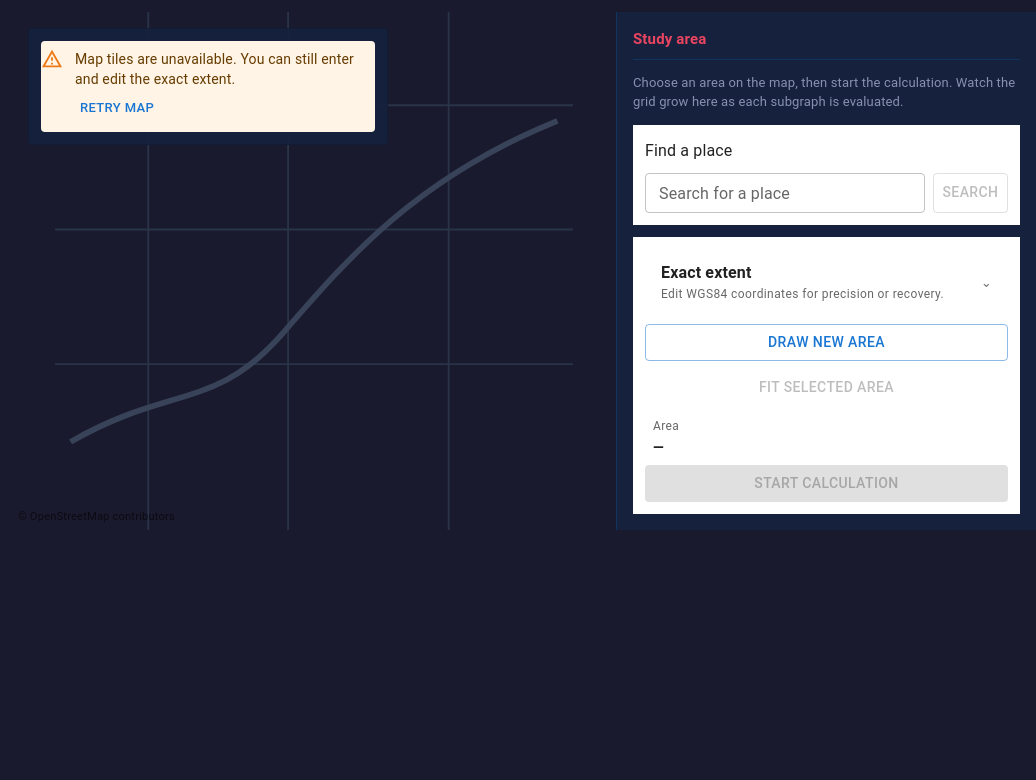
Test: area selection workspace › keeps a search suggestion separate from the active area
Type "Bad Oeynhausen" into the field labelled "Search for a place".
click(785, 192); type("Bad Oeynhausen")  # box [645, 172, 925, 212]
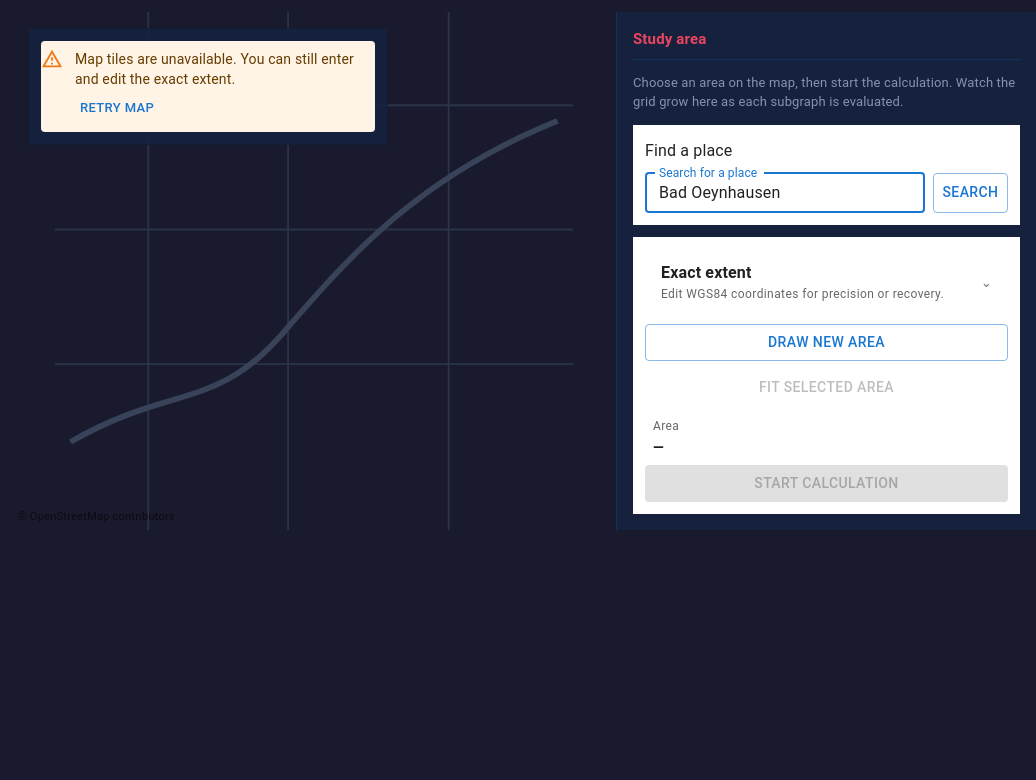
Click the button "Search".
click(970, 192)  # box [933, 172, 1008, 212]
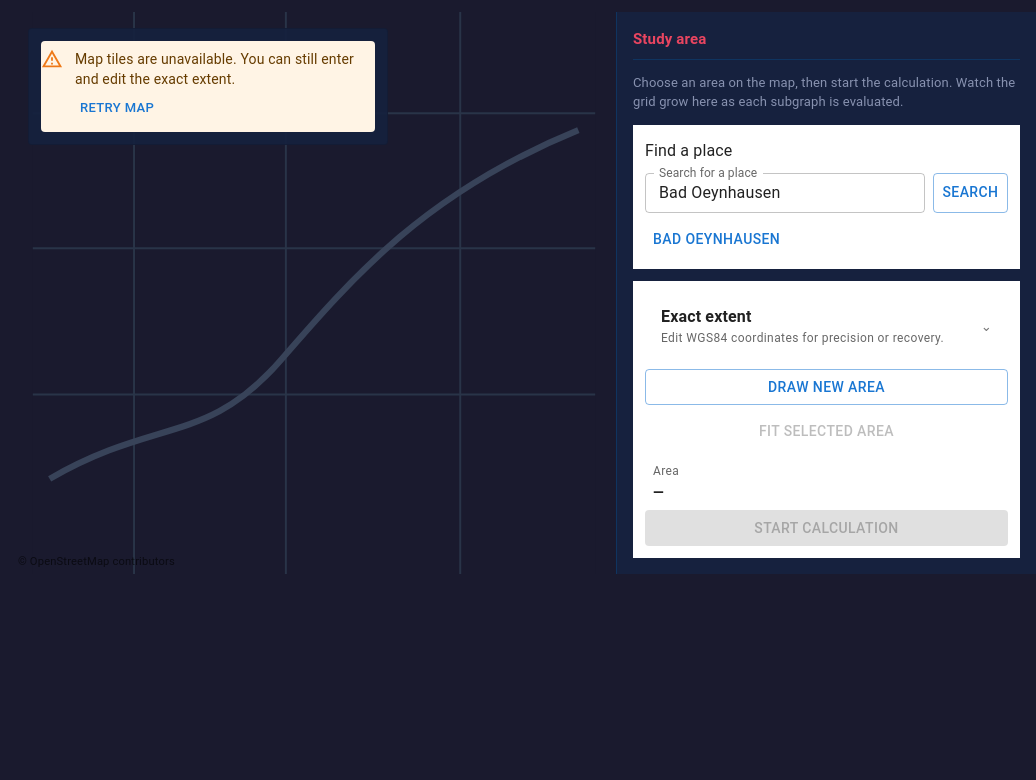
Click the option "Bad Oeynhausen".
click(717, 238)  # box [645, 220, 1008, 257]
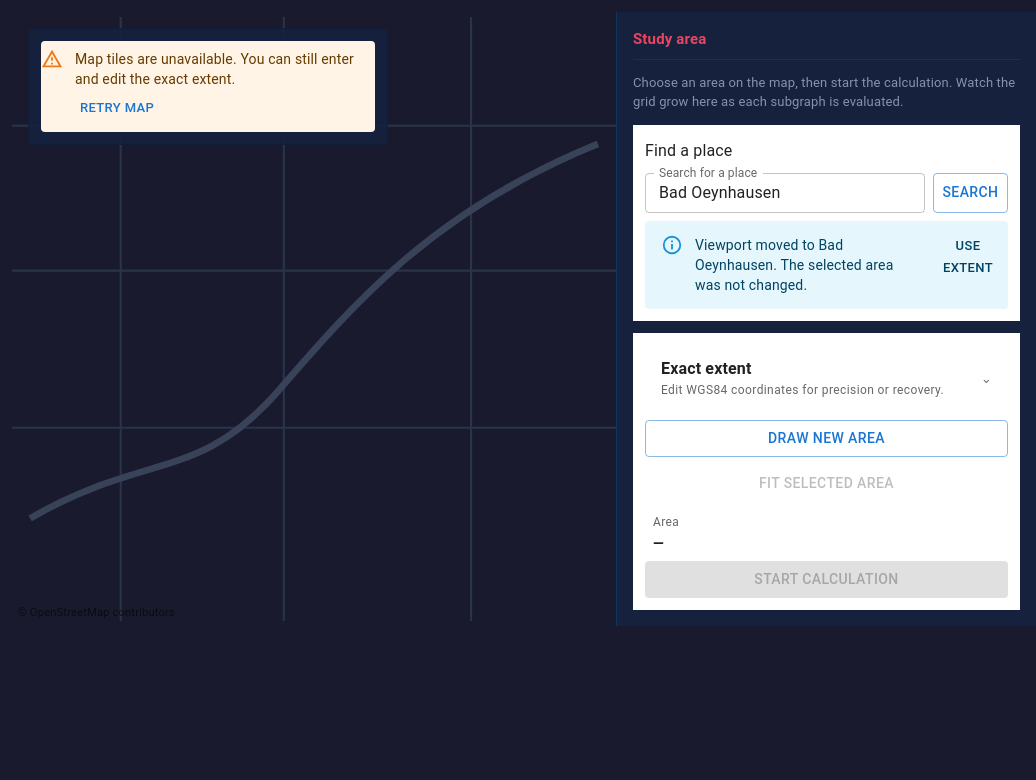
expect the text "selected area was not changed" is shown: met, box [695, 256, 893, 292]
Click the text "Exact extent".
click(706, 368)  # box [661, 358, 752, 378]
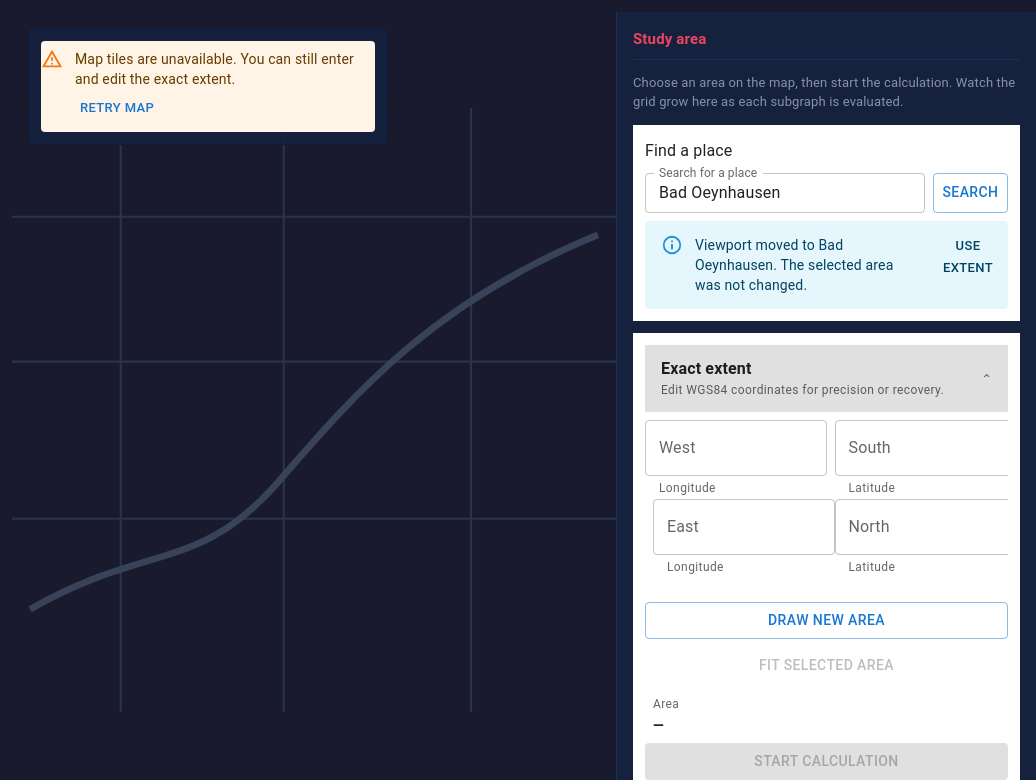
Click the button "Use extent".
click(968, 257)  # box [936, 230, 1000, 284]
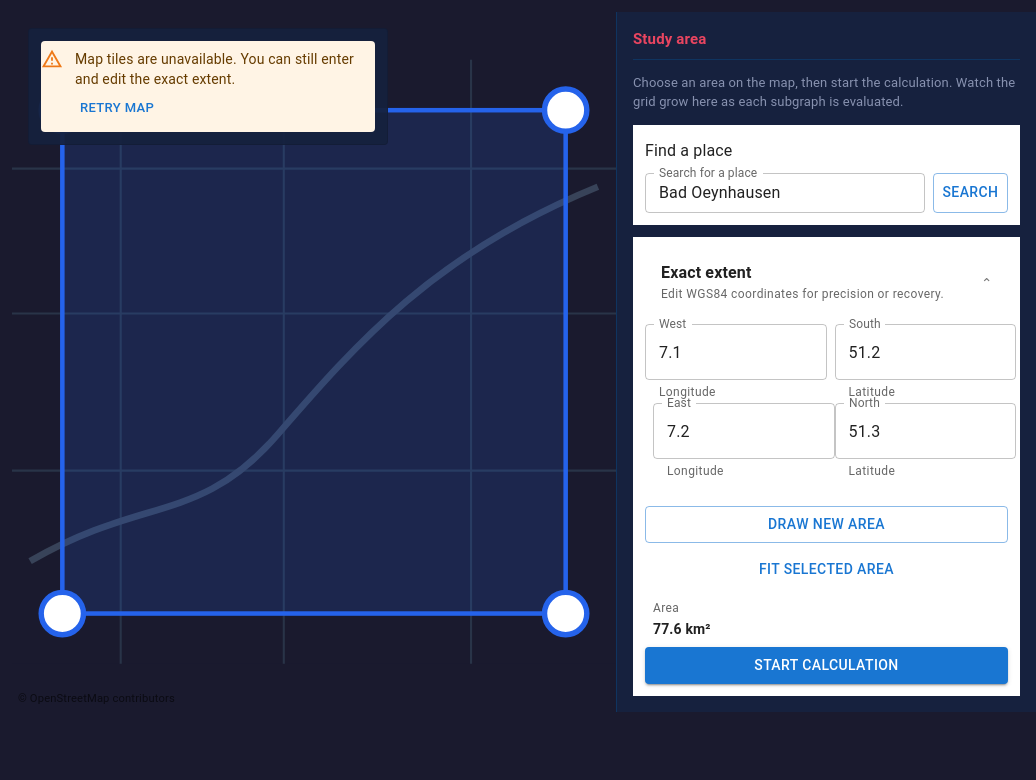
expect the number field labelled "West" holds "7.1": met, box [645, 324, 826, 380]
expect the number field labelled "East" holds "7.2": met, box [653, 403, 834, 459]
expect the button "Start calculation" is enabled: met, box [645, 647, 1008, 684]
